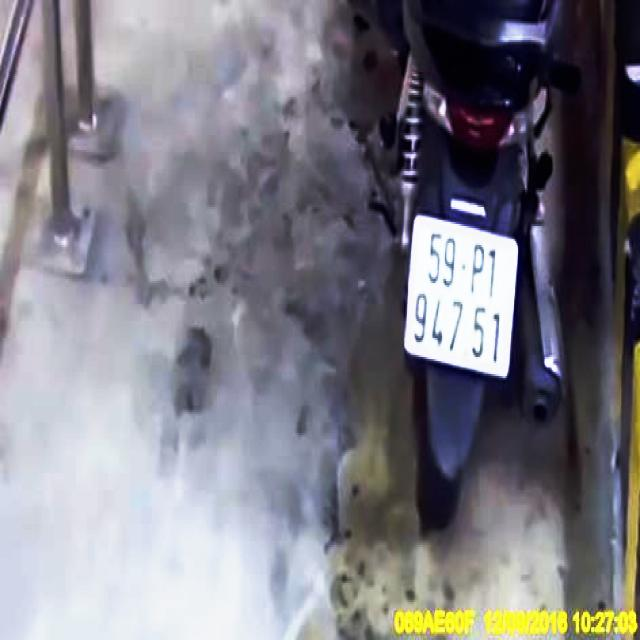license_plate: (404, 214, 520, 378)
